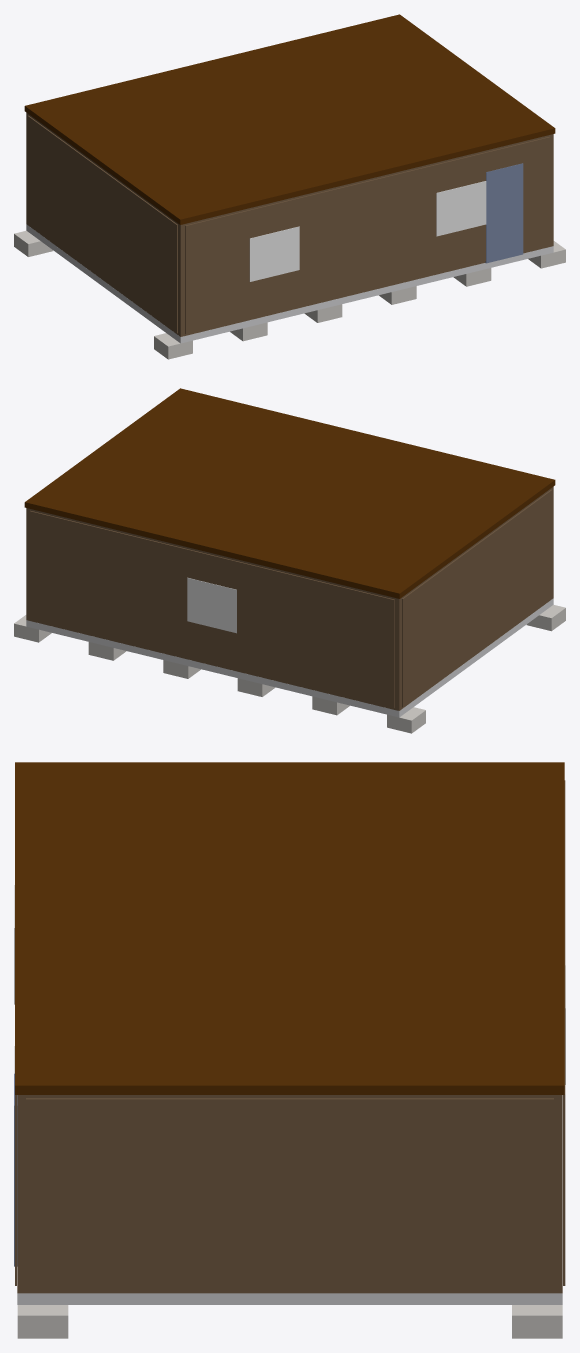
Rendered from Studio-30-Base-WengeWood-LOD3.glb.
3 views of the same model, one above another, from view 1: azimuth 30°, elevation 25°; view 2: azimuth 150°, elevation 25°; view 3: azimuth 270°, elevation 25° (orthographic). The views are drawn at different scales.
Visible parts, largest first — view 1: RoofMain, ExteriorPanelsStandard, WindowsStandard, BaseFrame, FoundationBlocks, ExteriorShell, EntryDoor; view 2: RoofMain, ExteriorPanelsStandard, BaseFrame, ExteriorShell, FoundationBlocks, WindowsStandard; view 3: RoofMain, ExteriorPanelsStandard, ExteriorShell, BaseFrame, FoundationBlocks.
Boxes of the visible parts, x1,y1,x2,y2 form: RoofMain: (24,14,555,224); ExteriorPanelsStandard: (27,115,549,334); WindowsStandard: (249,181,486,281); BaseFrame: (26,224,553,343); FoundationBlocks: (14,230,565,359); ExteriorShell: (26,112,553,336); EntryDoor: (485,163,523,263); RoofMain: (24,388,555,598); ExteriorPanelsStandard: (30,489,552,708); BaseFrame: (26,598,553,717); ExteriorShell: (26,486,553,710); FoundationBlocks: (14,604,565,733); WindowsStandard: (187,577,236,633); RoofMain: (15,762,564,1094); ExteriorPanelsStandard: (15,780,565,1290); ExteriorShell: (17,1095,562,1293); BaseFrame: (17,1293,562,1304); FoundationBlocks: (17,1305,562,1338).
Bounding box in the file's own units: 9.6 × 3.17 × 6.53.
